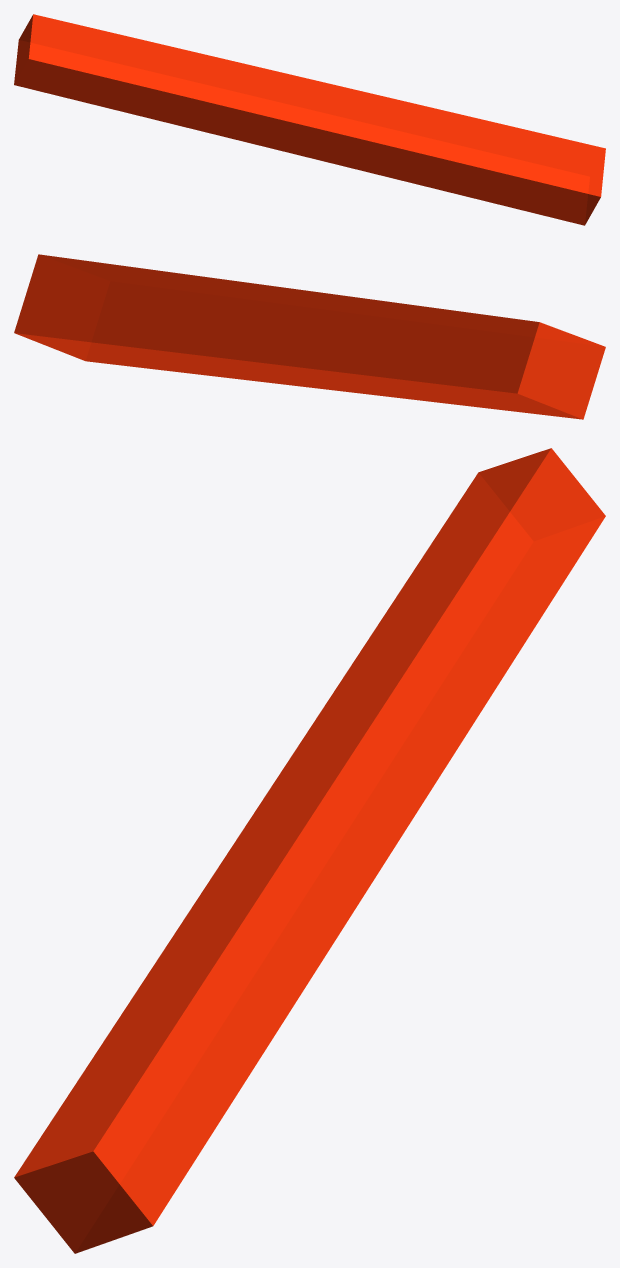
Rendered from Event_421278790_EBrechit_22.fbx.
The picture shows the model from 3 angles, top to bottom: view 1: azimuth 30°, elevation 25°; view 2: azimuth 150°, elevation 25°; view 3: azimuth 270°, elevation 25°; orthographic projection. The views are drawn at different scales.
Parts seen in each view (by area): view 1: Model; view 2: Model; view 3: Model.
Boxes of the visible parts, x1=… form: Model: x1=14, y1=14, x2=605, y2=225; Model: x1=14, y1=254, x2=605, y2=419; Model: x1=14, y1=448, x2=605, y2=1253.
Bounding box in the file's own units: 0.6134 × 0.2745 × 0.3531.
